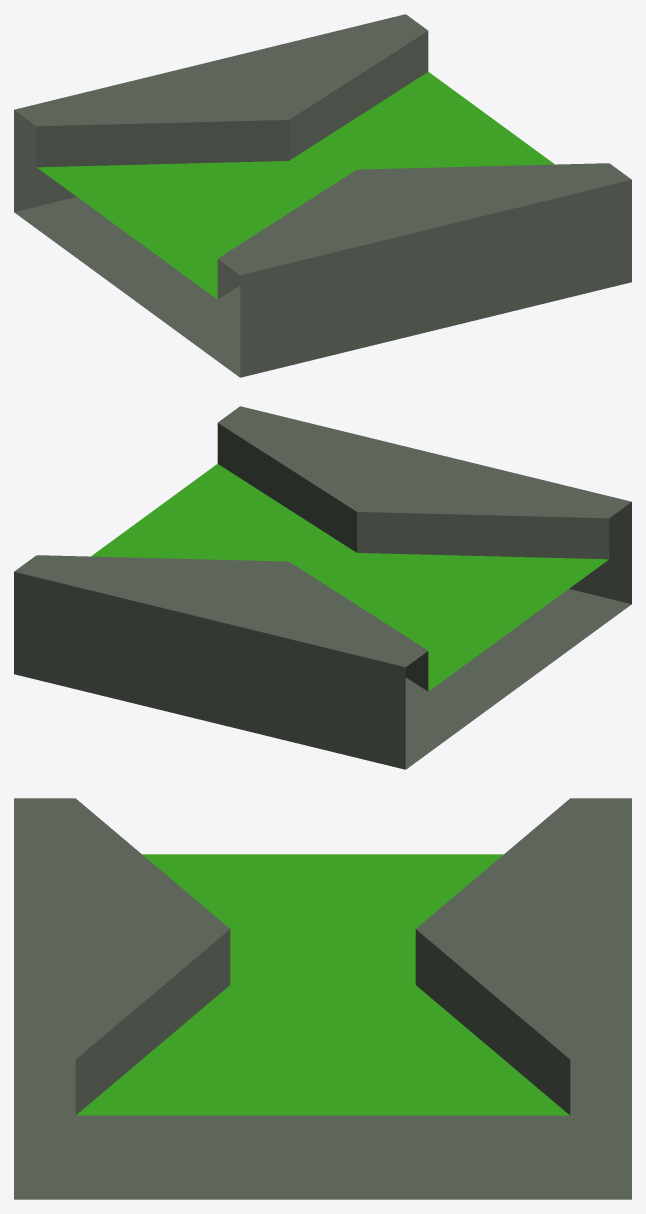
File: StraightNarrowTri.fbx
3 views of the same model, one above another, from view 1: azimuth 30°, elevation 25°; view 2: azimuth 150°, elevation 25°; view 3: azimuth 270°, elevation 25° (orthographic). The views are drawn at different scales.
Visible parts, largest first — view 1: StraightTriNarrow; view 2: StraightTriNarrow; view 3: StraightTriNarrow.
Part boxes in pixels (<box>): StraightTriNarrow: <box>14,14,631,377</box>; StraightTriNarrow: <box>14,406,631,769</box>; StraightTriNarrow: <box>14,798,631,1199</box>.
Size of the model in its own units: 200 by 50 by 200.
